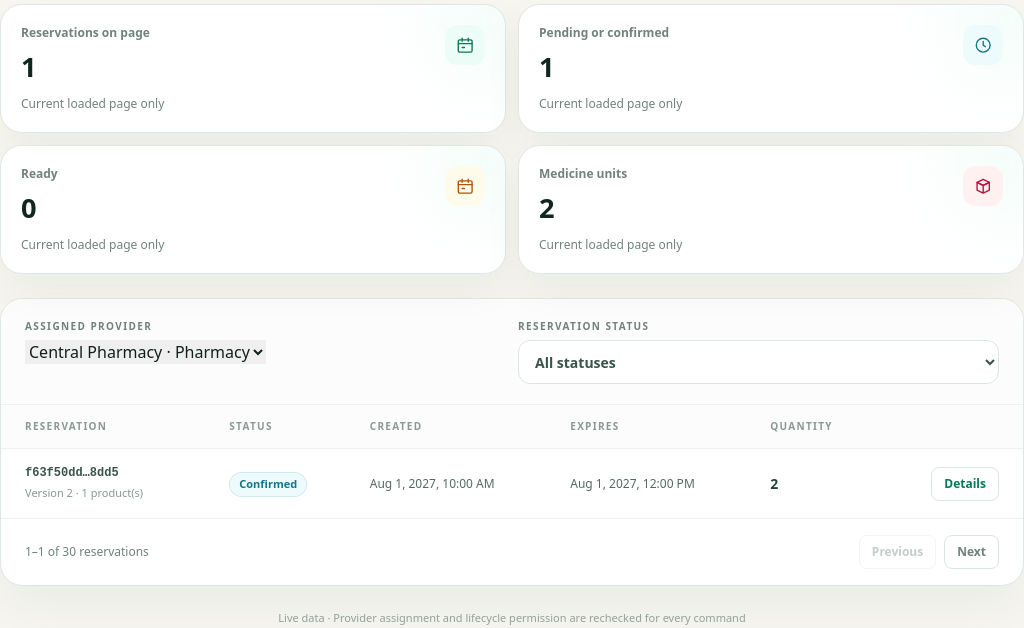
ReservationWorkspace live integration › confirms a version-safe lifecycle action and refreshes reservations
Click the button "Details" at [965, 484], box x1=931 y1=467 x2=999 y2=501
(page scrolled)
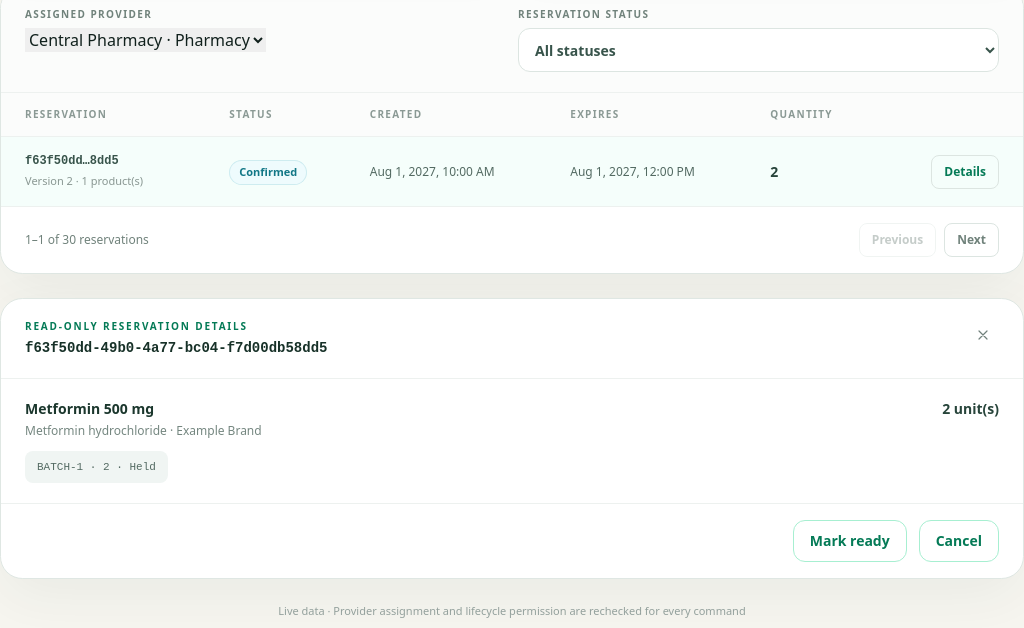
Click the button "Mark ready" at [850, 541], box x1=793 y1=520 x2=907 y2=562
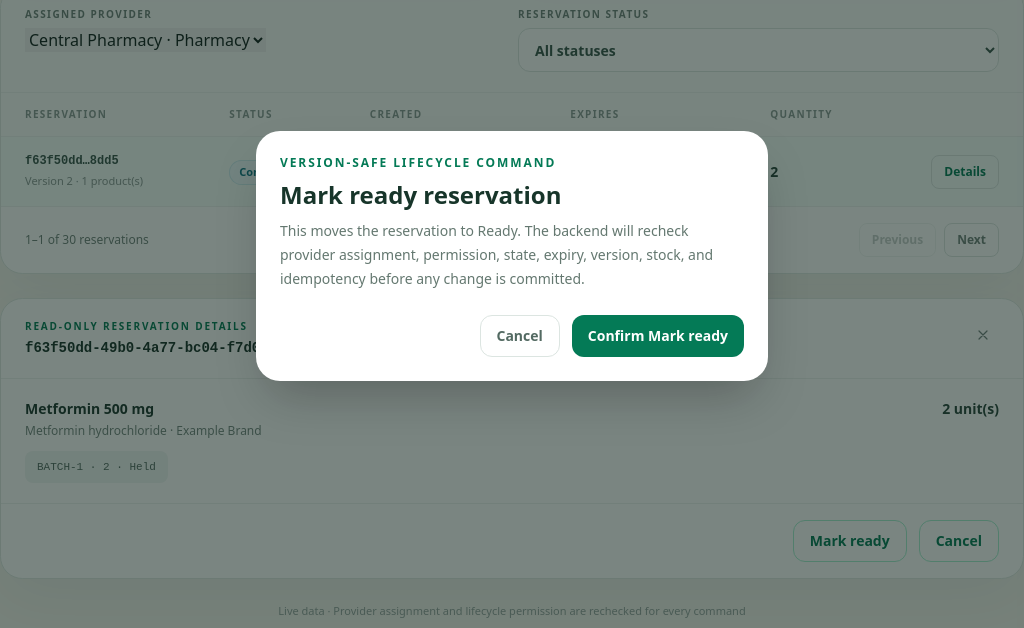
Now the dialog shows "recheck provider assignment", box x1=280 y1=221 x2=713 y2=288
Click the button "Confirm Mark ready" at [658, 336], box x1=572 y1=315 x2=744 y2=357
(page scrolled)
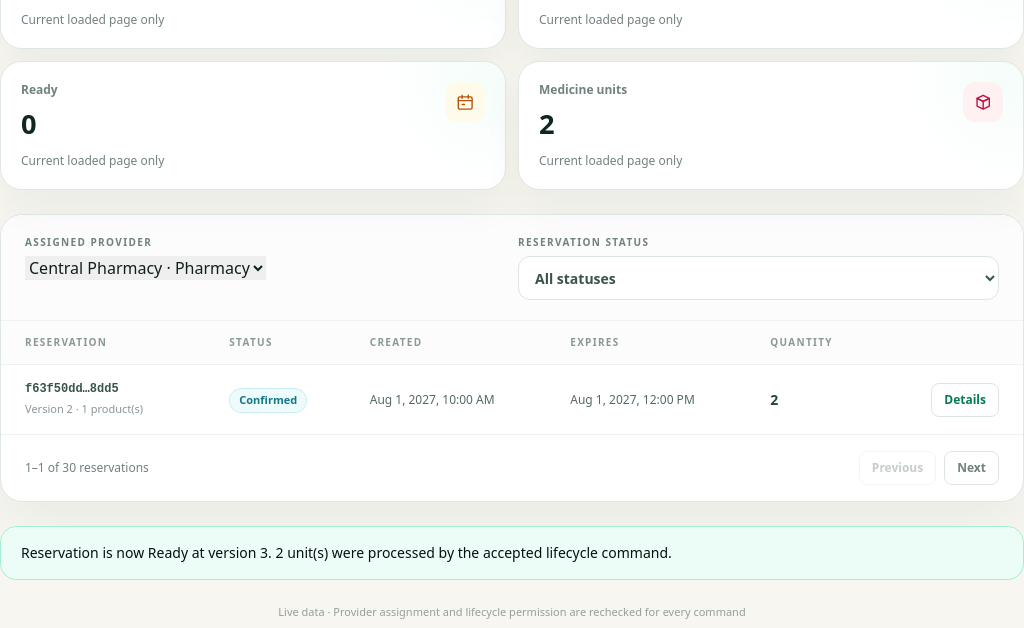
Now the message shows "now Ready at version 3", box x1=21 y1=543 x2=672 y2=562
